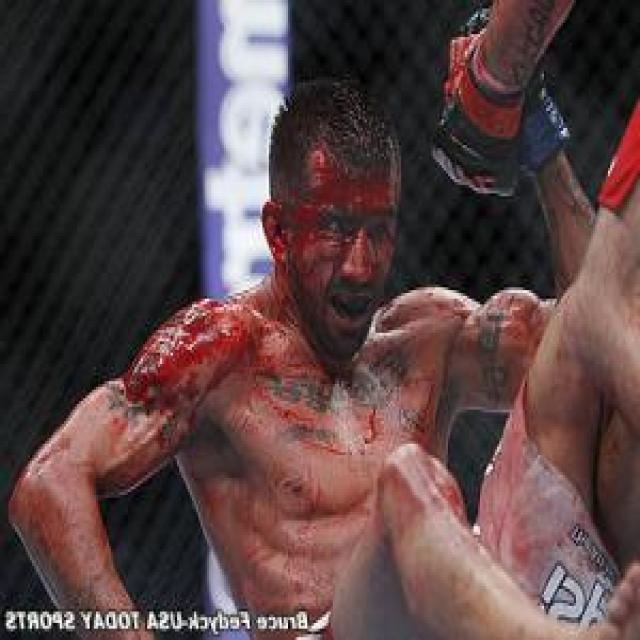flood: (110, 136, 418, 412)
